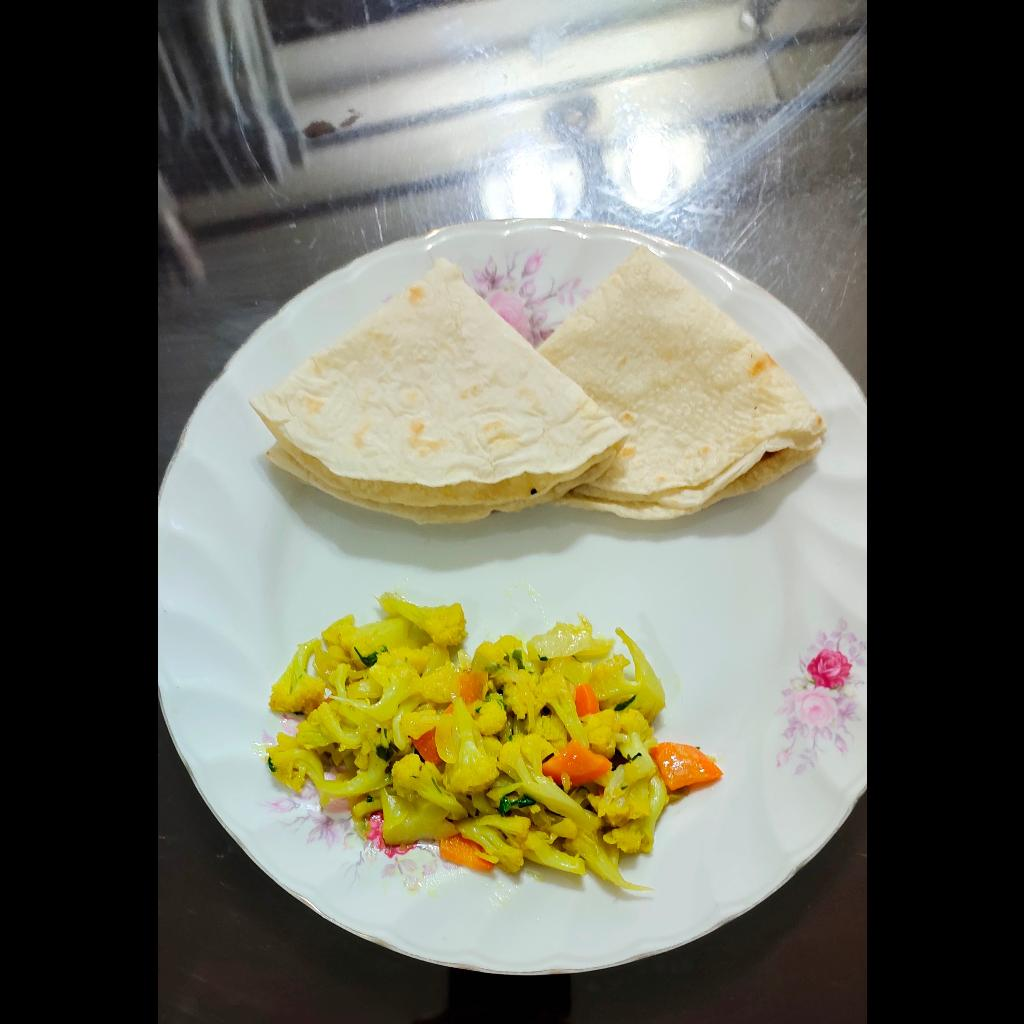cauliflower: (263, 591, 680, 897)
ruti: (241, 242, 829, 526)
